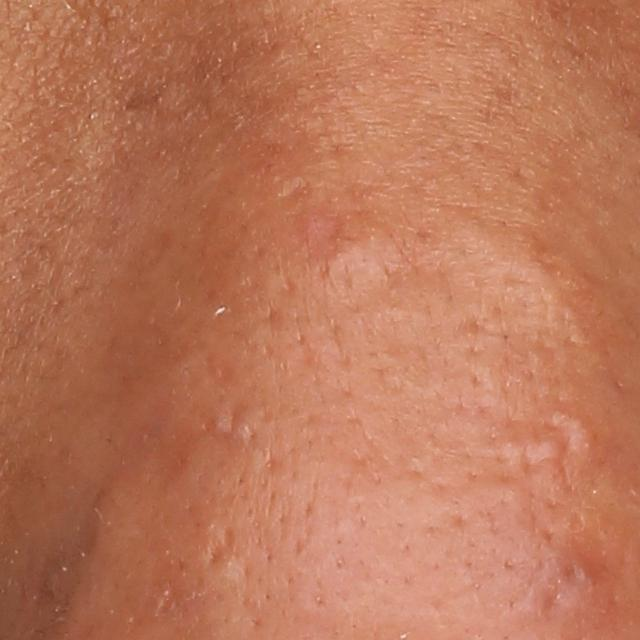atrophic_scar: (221, 402, 248, 436)
